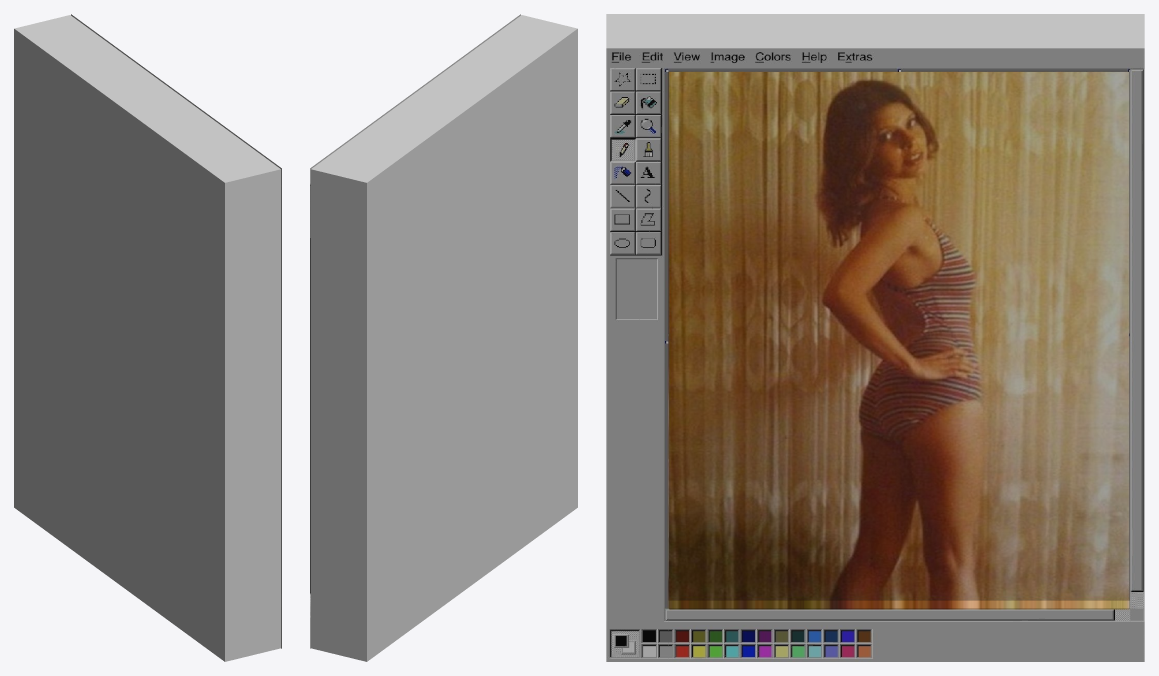
File: photo2.glb
3 renders of one model, left to right at view 1: azimuth 30°, elevation 25°; view 2: azimuth 150°, elevation 25°; view 3: azimuth 270°, elevation 25°, orthographic. The views are drawn at different scales.
Visible parts, largest first — view 1: Cube, Screen Shot 2021-06-16 at 11.34.20; view 2: Cube, Screen Shot 2021-06-16 at 11.34.20; view 3: Screen Shot 2021-06-16 at 11.34.20, Cube.
Boxes of the visible parts, x1=… form: Cube: x1=14, y1=15, x2=280, y2=661; Screen Shot 2021-06-16 at 11.34.20: x1=71, y1=14, x2=281, y2=648; Cube: x1=311, y1=15, x2=577, y2=661; Screen Shot 2021-06-16 at 11.34.20: x1=310, y1=14, x2=520, y2=648; Screen Shot 2021-06-16 at 11.34.20: x1=606, y1=48, x2=1144, y2=661; Cube: x1=606, y1=14, x2=1144, y2=607.
Bounding box in the file's own units: 0.624 × 5.04 × 4.01.
Materials: 2 (1 with a texture image).
